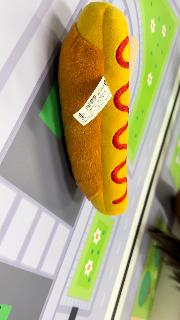hotdog: (57, 2, 131, 216)
